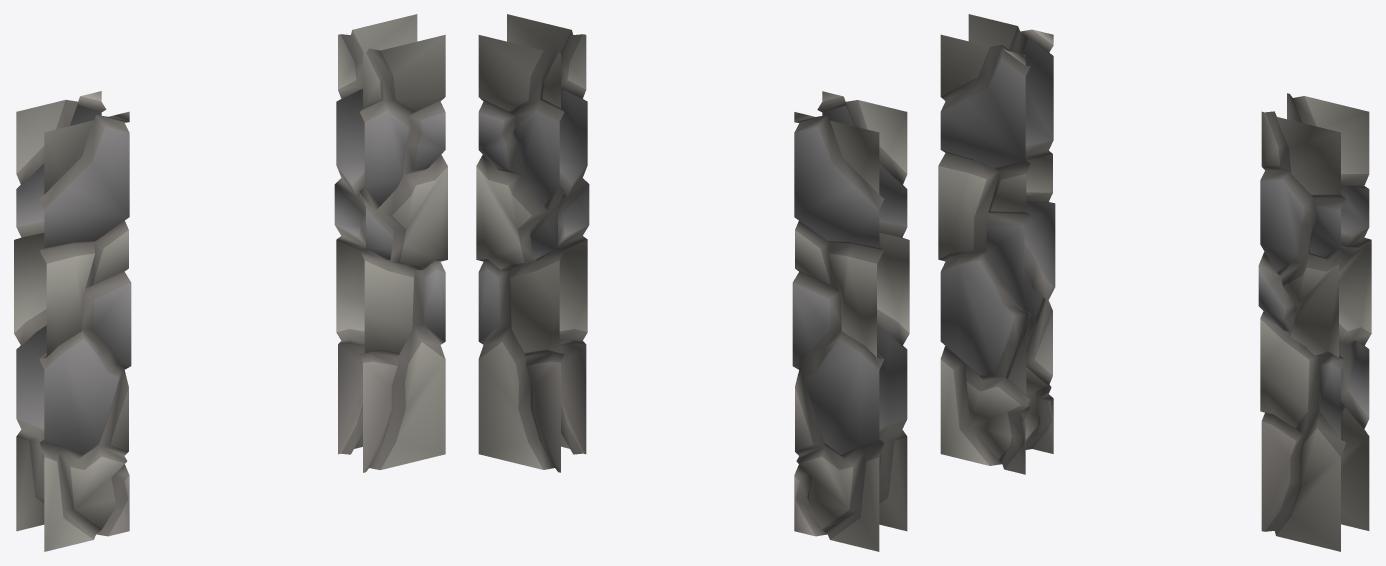
The model's file is rpgpp_ag_wall_03_3x3_door_a.fbx.
The picture shows the model from 3 angles, left to right: view 1: azimuth 30°, elevation 25°; view 2: azimuth 150°, elevation 25°; view 3: azimuth 330°, elevation 25°; orthographic projection.
Visible parts, largest first — view 1: rpgpp_ag_wall_03_3x3_door_a; view 2: rpgpp_ag_wall_03_3x3_door_a; view 3: rpgpp_ag_wall_03_3x3_door_a.
Part boxes in pixels (bbox=[...]): rpgpp_ag_wall_03_3x3_door_a: bbox=[14, 14, 447, 551]; rpgpp_ag_wall_03_3x3_door_a: bbox=[476, 14, 909, 551]; rpgpp_ag_wall_03_3x3_door_a: bbox=[938, 14, 1371, 551].
Bounding box in the file's own units: 3 × 3 × 0.4267.
